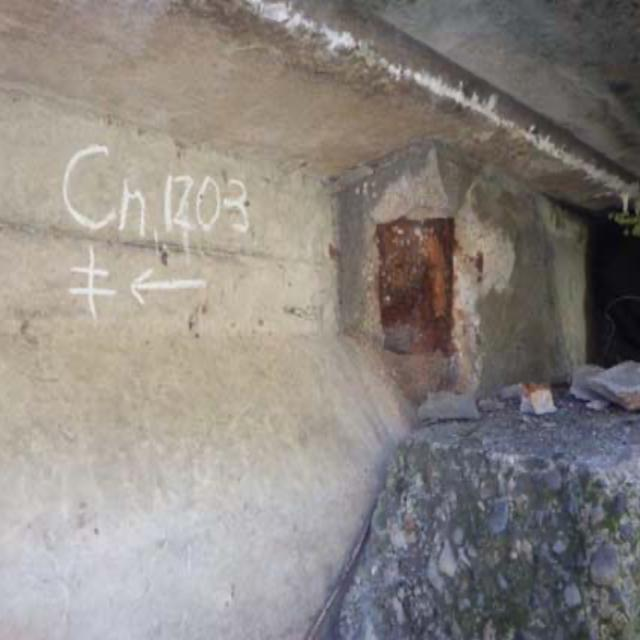corrosion: (370, 203, 471, 387)
